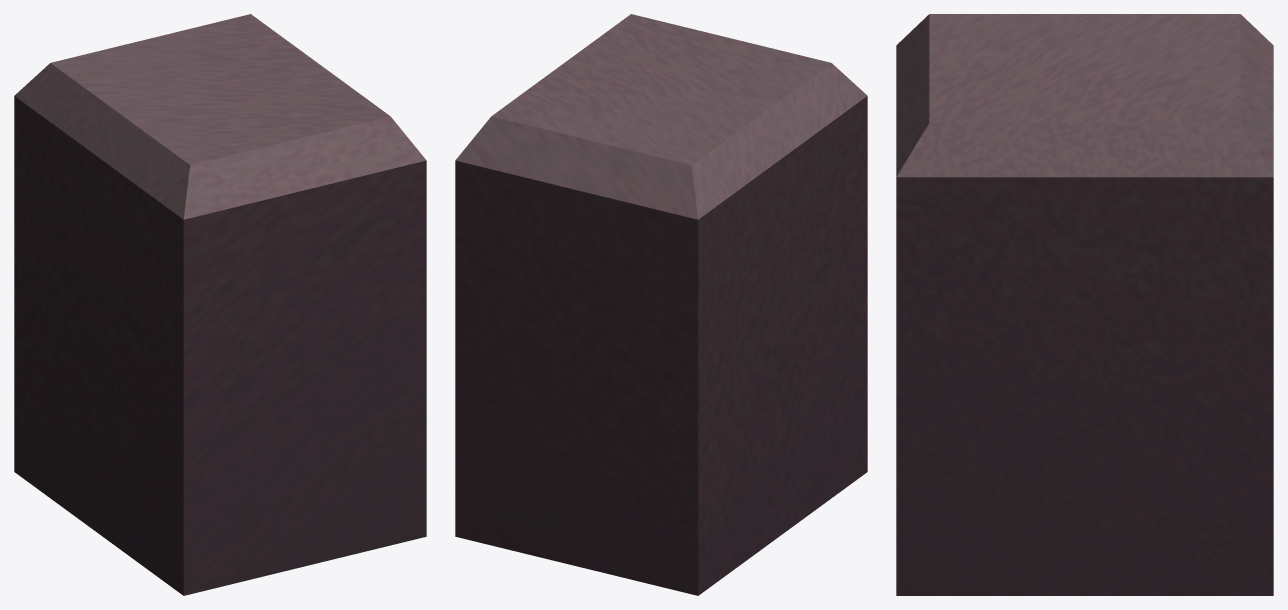
File: PillarBase.fbx
The picture shows the model from 3 angles, left to right: view 1: azimuth 30°, elevation 25°; view 2: azimuth 150°, elevation 25°; view 3: azimuth 270°, elevation 25°; orthographic projection. The views are drawn at different scales.
Parts seen in each view (by area): view 1: PillarBase; view 2: PillarBase; view 3: PillarBase.
Boxes of the visible parts, x1,y1,x2,y2 form: PillarBase: [14, 14, 426, 595]; PillarBase: [455, 14, 867, 595]; PillarBase: [896, 14, 1273, 595].
Size of the model in its own units: 130 by 211 by 157.
